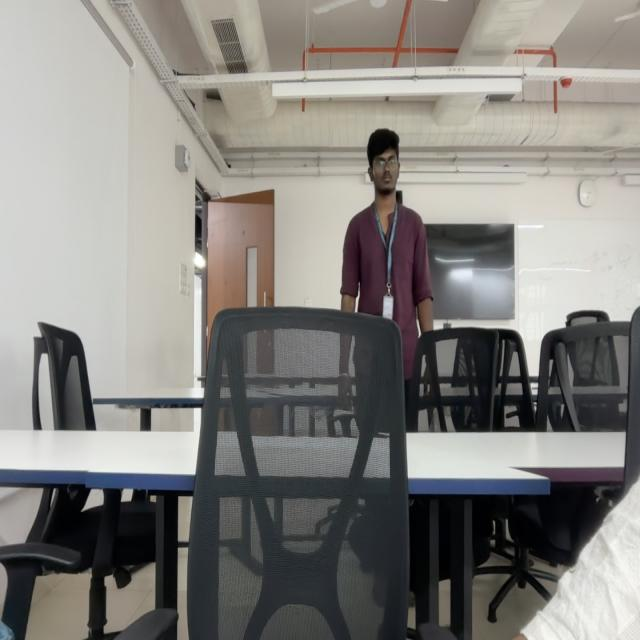ravindra: (367, 128, 402, 198)
